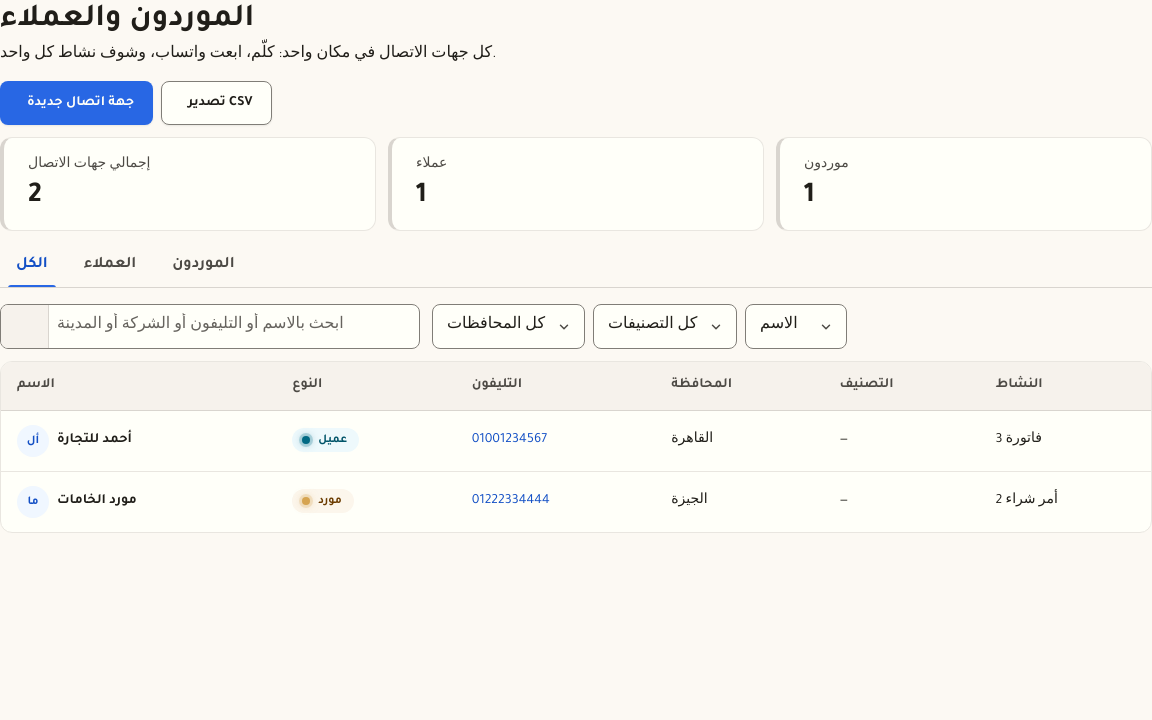
Test: الموردون والعملاء › الاسم الفاضي بيتمنع قبل الإرسال
What coordinates should you click on to do the following:
click the button "جهة اتصال جديدة"
I would click on:
 (76, 103)
Its box is [0,81,153,125].
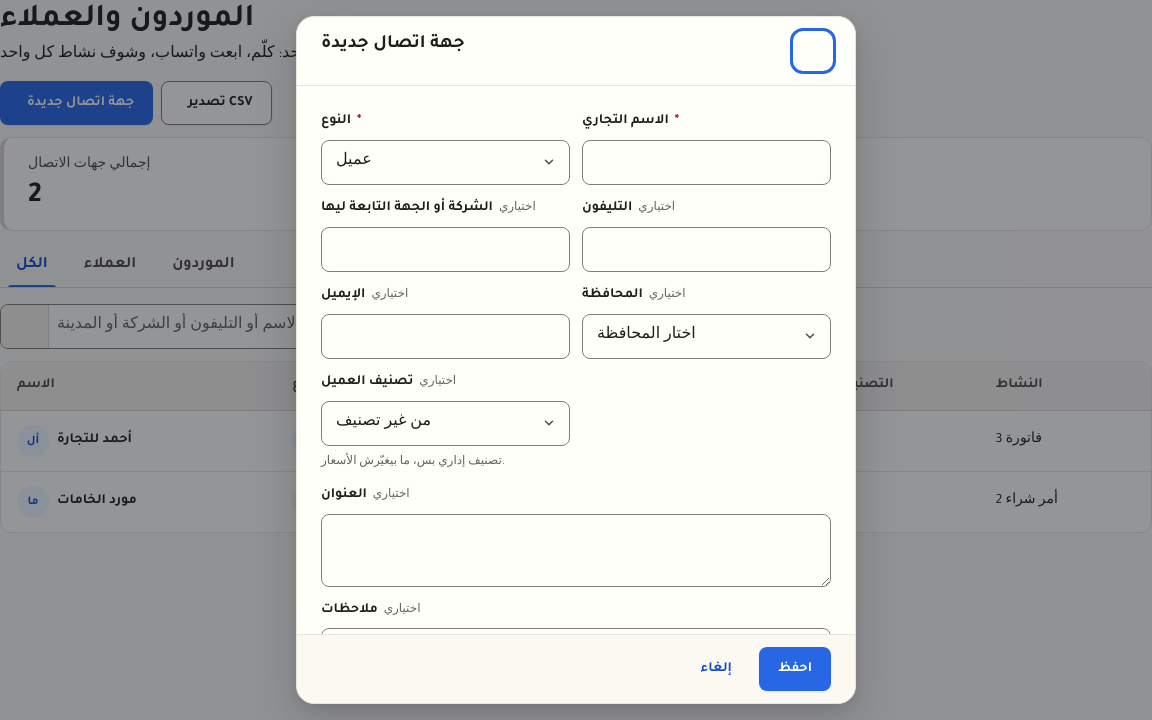
What coordinates should you click on to do the following:
click the button "احفظ"
I would click on:
 (795, 669)
Its box is [759,647,831,691].
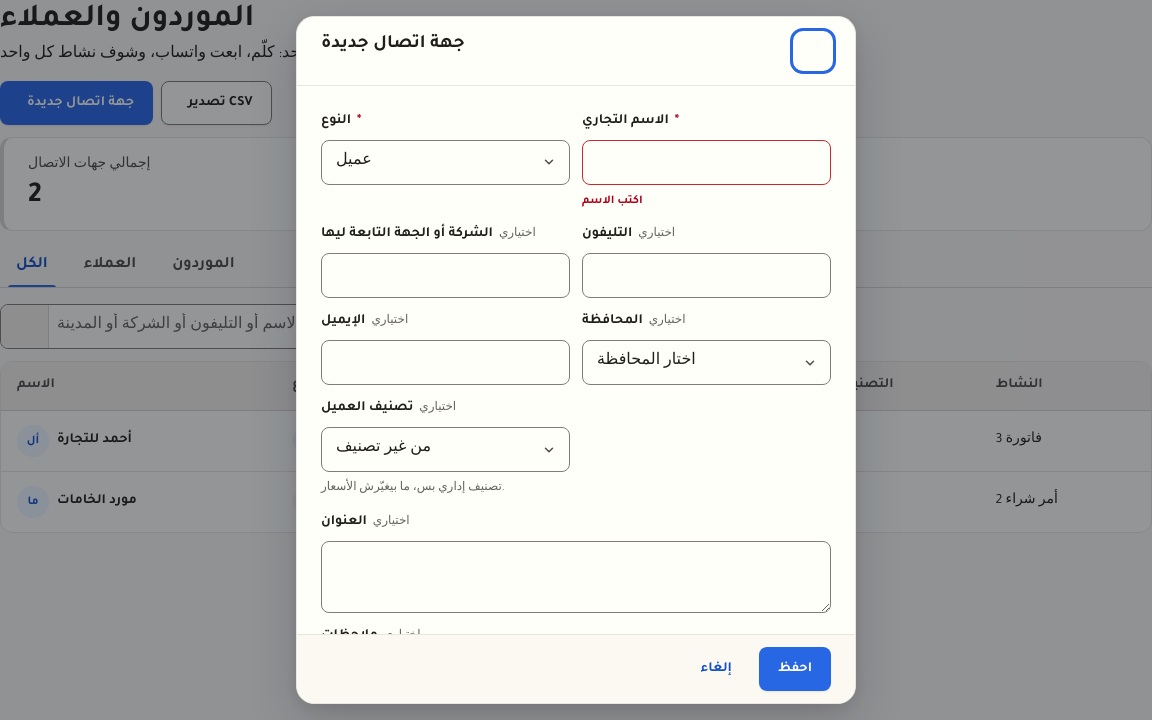
Now the text "اكتب الاسم" is shown, box [582,195,643,207]
